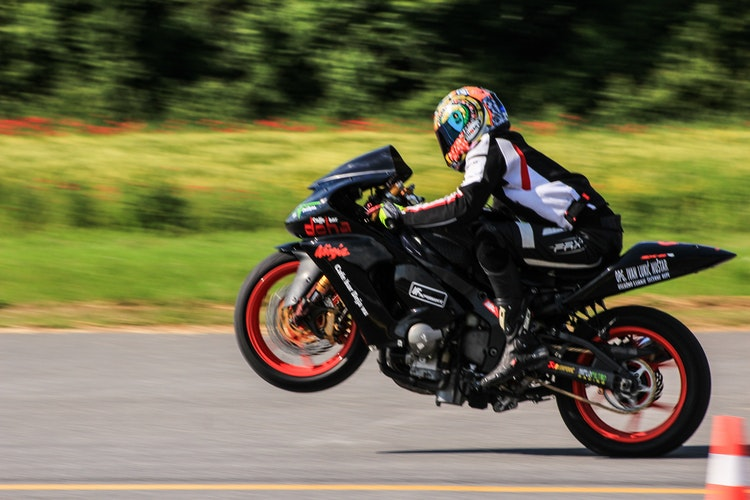helmet: (432, 88, 522, 158)
